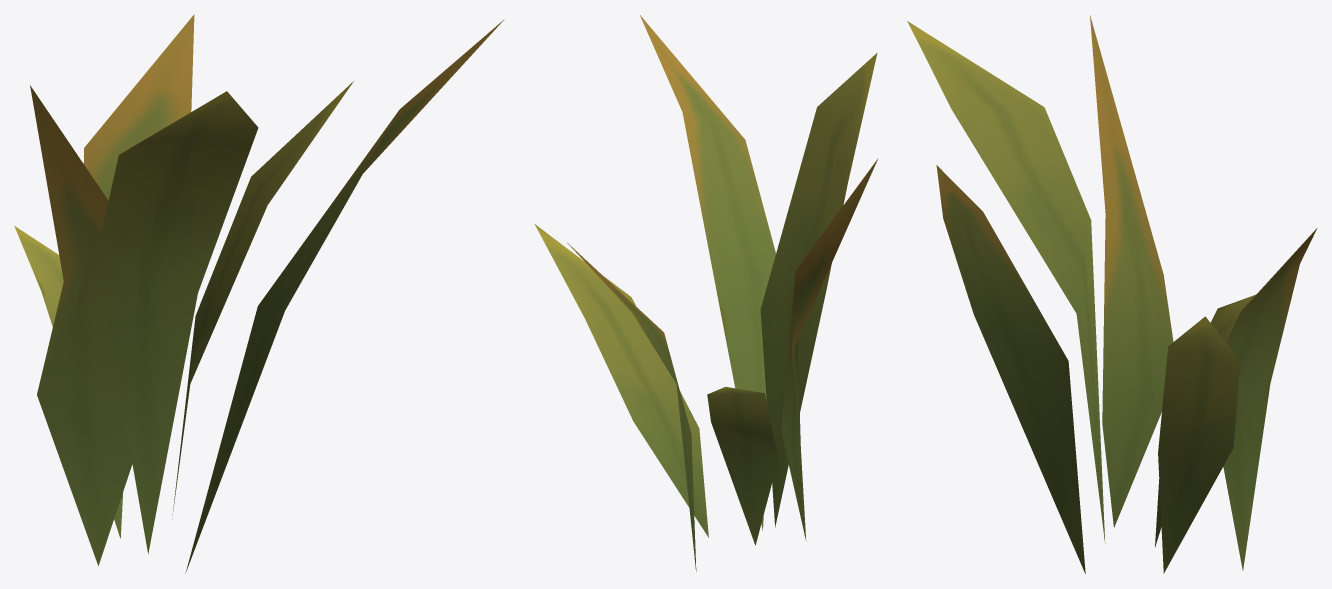
File: grass_3.obj
The picture shows the model from 3 angles, left to right: view 1: azimuth 30°, elevation 25°; view 2: azimuth 150°, elevation 25°; view 3: azimuth 270°, elevation 25°; orthographic projection. The views are drawn at different scales.
Visible parts, largest first — view 1: grass_3; view 2: grass_3; view 3: grass_3.
Part boxes in pixels (left/top/right/bottom): grass_3: left=14, top=14, right=504, bottom=573; grass_3: left=534, top=15, right=877, bottom=571; grass_3: left=907, top=15, right=1317, bottom=573.
Bounding box in the file's own units: 1.96 × 2.7 × 1.9.
Materials: 1 (1 with a texture image).
